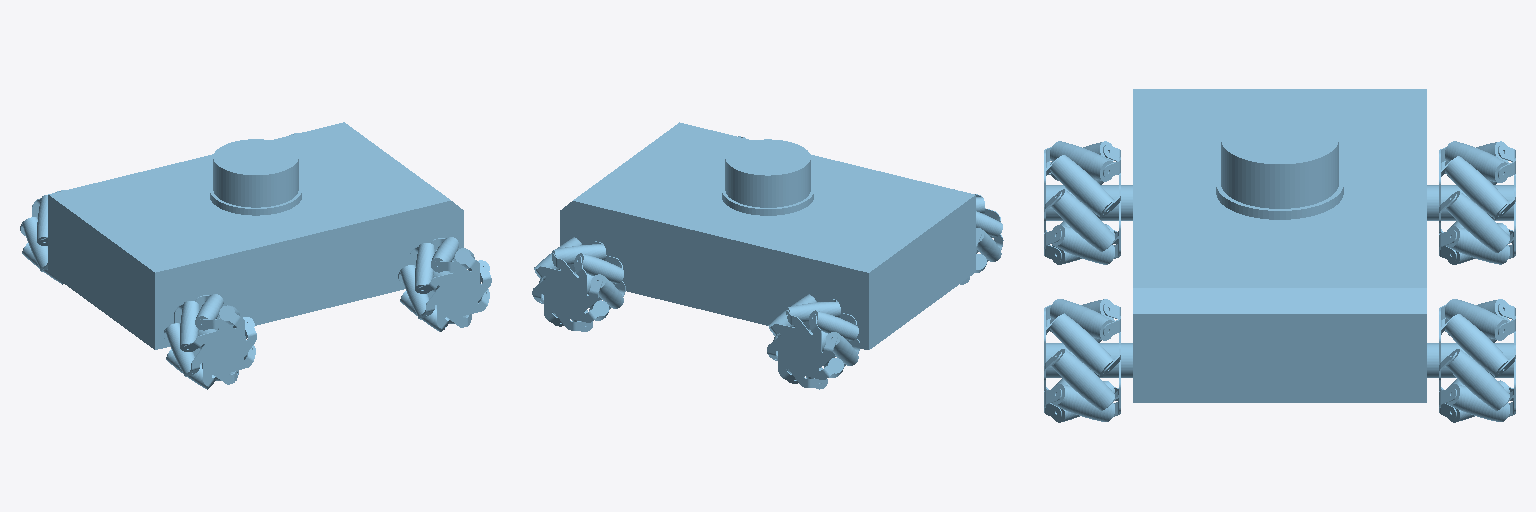
The robot description file, URDF, robot "omni":
<?xml version="1.0" ?>
<robot name="omni">
  <link name="base_footprint"/>

  <joint name="base_footprint_to_base_link" type="fixed">
    <parent link="base_footprint"/>
    <child link="base_link"/>
  </joint>

  <link name="base_link">
    <inertial>
      <origin xyz="-0.125396 2.39673e-17 0.0513697" rpy="0 0 0"/>
      <mass value="2.99867"/>
      <inertia ixx="0.00697143" ixy="0" ixz="3.19277e-05" iyy="0.0165647" iyz="0" izz="0.0216984"/>
    </inertial>
    <visual>
      <origin xyz="-0.125 2.77556e-17 0.02162" rpy="0 -0 0"/>
      <geometry>
        <mesh filename="package://omni/meshes/base_link.stl"/>
      </geometry>
      <material name="base_link_material">
        <color rgba="0.615686 0.811765 0.929412 1.0"/>
      </material>
    </visual>
    <collision>
      <origin xyz="-0.125 2.77556e-17 0.02162" rpy="0 -0 0"/>
      <geometry>
        <mesh filename="package://omni/meshes/base_link.stl"/>
      </geometry>
    </collision>
  </link>

  <link name="wheel1">
    <inertial>
      <origin xyz="-4.62646e-09 2.15356e-10 -0.0194206" rpy="0 0 0"/>
      <mass value="0.105412"/>
      <inertia ixx="3.8723e-05" ixy="2.1629e-12" ixz="2.584e-13" iyy="3.8723e-05" iyz="-7.71155e-14" izz="6.118e-05"/>
    </inertial>
    <visual>
      <origin xyz="-2.77556e-17 -1.38778e-17 -0.0388" rpy="8.65956e-17 -8.65956e-17 -3.14766e-19"/>
      <geometry>
        <mesh filename="package://omni/meshes/mecanum_wheel.stl"/>
      </geometry>
      <material name="wheel1_material">
        <color rgba="0.615686 0.811765 0.929412 1.0"/>
      </material>
    </visual>
    <collision>
      <origin xyz="-2.77556e-17 -1.38778e-17 -0.0388" rpy="8.65956e-17 -8.65956e-17 -3.14766e-19"/>
      <geometry>
        <mesh filename="package://omni/meshes/mecanum_wheel.stl"/>
      </geometry>
    </collision>
  </link>

  <joint name="joint1" type="continuous">
    <origin xyz="-0.22 -0.12 0.03162" rpy="1.5708 -0.0360662 -1.38117e-24"/>
    <parent link="base_link"/>
    <child link="wheel1"/>
    <axis xyz="0 0 1"/>
    <limit effort="10" velocity="10"/>
  </joint>

  <link name="wheel2">
    <inertial>
      <origin xyz="-4.62646e-09 2.15356e-10 -0.0194206" rpy="0 0 0"/>
      <mass value="0.105412"/>
      <inertia ixx="3.8723e-05" ixy="2.1629e-12" ixz="2.584e-13" iyy="3.8723e-05" iyz="-7.71155e-14" izz="6.118e-05"/>
    </inertial>
    <visual>
      <origin xyz="1.04083e-17 -6.93889e-18 -0.0388" rpy="8.65956e-17 -8.65956e-17 -6.1402e-50"/>
      <geometry>
        <mesh filename="package://omni/meshes/mecanum_wheel.stl"/>
      </geometry>
      <material name="wheel2_material">
        <color rgba="0.615686 0.811765 0.929412 1.0"/>
      </material>
    </visual>
    <collision>
      <origin xyz="1.04083e-17 -6.93889e-18 -0.0388" rpy="8.65956e-17 -8.65956e-17 -6.1402e-50"/>
      <geometry>
        <mesh filename="package://omni/meshes/mecanum_wheel.stl"/>
      </geometry>
    </collision>
  </link>

  <joint name="joint2" type="continuous">
    <origin xyz="-0.03 -0.12 0.03162" rpy="1.5708 -6.1402e-50 0"/>
    <parent link="base_link"/>
    <child link="wheel2"/>
    <axis xyz="0 0 1"/>
    <limit effort="10" velocity="10"/>
  </joint>

  <link name="wheel3">
    <inertial>
      <origin xyz="-4.62646e-09 2.15356e-10 -0.0194206" rpy="0 0 0"/>
      <mass value="0.105412"/>
      <inertia ixx="3.8723e-05" ixy="2.1629e-12" ixz="2.584e-13" iyy="3.8723e-05" iyz="-7.71155e-14" izz="6.118e-05"/>
    </inertial>
    <visual>
      <origin xyz="0 -6.93889e-18 -0.0388" rpy="8.65956e-17 -8.65956e-17 -6.1402e-50"/>
      <geometry>
        <mesh filename="package://omni/meshes/mecanum_wheel.stl"/>
      </geometry>
      <material name="wheel3_material">
        <color rgba="0.615686 0.811765 0.929412 1.0"/>
      </material>
    </visual>
    <collision>
      <origin xyz="0 -6.93889e-18 -0.0388" rpy="8.65956e-17 -8.65956e-17 -6.1402e-50"/>
      <geometry>
        <mesh filename="package://omni/meshes/mecanum_wheel.stl"/>
      </geometry>
    </collision>
  </link>

  <joint name="joint3" type="continuous">
    <origin xyz="-0.22 0.12 0.03162" rpy="-1.5708 6.1402e-50 0"/>
    <parent link="base_link"/>
    <child link="wheel3"/>
    <axis xyz="0 0 1"/>
    <limit effort="10" velocity="10"/>
  </joint>

  <link name="wheel4">
    <inertial>
      <origin xyz="-4.62646e-09 2.15356e-10 -0.0194206" rpy="0 0 0"/>
      <mass value="0.105412"/>
      <inertia ixx="3.8723e-05" ixy="2.1629e-12" ixz="2.584e-13" iyy="3.8723e-05" iyz="-7.71155e-14" izz="6.118e-05"/>
    </inertial>
    <visual>
      <origin xyz="6.93889e-18 -3.46945e-18 -0.0388" rpy="8.65956e-17 -8.65956e-17 -6.1402e-50"/>
      <geometry>
        <mesh filename="package://omni/meshes/mecanum_wheel.stl"/>
      </geometry>
      <material name="wheel4_material">
        <color rgba="0.615686 0.811765 0.929412 1.0"/>
      </material>
    </visual>
    <collision>
      <origin xyz="6.93889e-18 -3.46945e-18 -0.0388" rpy="8.65956e-17 -8.65956e-17 -6.1402e-50"/>
      <geometry>
        <mesh filename="package://omni/meshes/mecanum_wheel.stl"/>
      </geometry>
    </collision>
  </link>

  <joint name="joint4" type="continuous">
    <origin xyz="-0.03 0.12 0.03162" rpy="-1.5708 1.5708 0"/>
    <parent link="base_link"/>
    <child link="wheel4"/>
    <axis xyz="0 0 1"/>
    <limit effort="10" velocity="10"/>
  </joint>

  <link name="lidar_link">
    <inertial>
      <origin xyz="6.13581e-19 1.92593e-33 -0.0125" rpy="0 0 0"/>
      <mass value="0.0743615"/>
      <inertia ixx="2.06043e-05" ixy="0" ixz="0" iyy="2.06043e-05" iyz="0" izz="3.34627e-05"/>
    </inertial>
    <visual>
      <origin xyz="0 1.83697e-18 0" rpy="3.14159 -0 0"/>
      <geometry>
        <mesh filename="package://omni/meshes/lidar.stl"/>
      </geometry>
      <material name="lidar_material">
        <color rgba="0.615686 0.811765 0.929412 1.0"/>
      </material>
    </visual>
    <collision>
      <origin xyz="0 1.83697e-18 0" rpy="3.14159 -0 0"/>
      <geometry>
        <mesh filename="package://omni/meshes/lidar.stl"/>
      </geometry>
    </collision>
  </link>

  <joint name="lidar_joint" type="fixed">
    <origin xyz="-0.125 2.97456e-17 0.08662" rpy="3.14159 -0 0"/>
    <parent link="base_link"/>
    <child link="lidar_link"/>
    <axis xyz="0 0 1"/>
    <limit effort="10" velocity="10"/>
  </joint>

  <gazebo reference="lidar_link">
    <material>Gazebo/Gray</material>
    <sensor type="ray" name="ray_sensor">
      <pose>0 0 0 0 0 0</pose>
      <visualize>true</visualize>
      <update_rate>30.0</update_rate>
      <ray>
         <scan>
            <horizontal>
              <samples>600</samples>
              <resolution>1</resolution>
              <min_angle>0.0</min_angle>
              <max_angle>6.28319</max_angle>
            </horizontal>
         </scan>
         <range>
            <min>0.120</min>
            <max>10</max>
            <resolution>0.015</resolution>
         </range>
      </ray>
      <plugin name="ros_ray_sensor_controller" filename="libgazebo_ros_laser.so">
          <topicName>scan</topicName>
          <frameName>lidar_link</frameName>
          <gaussianNoise>0.01</gaussianNoise> 
      </plugin>
    </sensor>
  </gazebo>

  <gazebo>
    <plugin name="omni_steering" filename="libgazebo_ros_planar_move.so">
      <commandTopic>cmd_vel</commandTopic>
      <odometryTopic>odom</odometryTopic>
      <odometryFrame>odom</odometryFrame>
      <odometryRate>20.0</odometryRate>
      <robotBaseFrame>base_footprint</robotBaseFrame>
    </plugin>
  </gazebo>
</robot>

--- Render facts (derived) ---
The picture shows the robot from 3 angles, left to right: view 1: azimuth 30°, elevation 25°; view 2: azimuth 150°, elevation 25°; view 3: azimuth 270°, elevation 25°; orthographic projection.
Robot: omni — 7 links, 6 joints (4 continuous, 2 fixed); root link base_footprint; default pose: all joints at 0.
Links seen in each view (by area): view 1: base_link, wheel2, wheel1, lidar_link, wheel3; view 2: base_link, wheel3, wheel4, lidar_link, wheel1; view 3: base_link, lidar_link, wheel3, wheel4, wheel2, wheel1.
Boxes of the visible links, x1=… form: base_link: x1=48, y1=122, x2=469, y2=363; wheel2: x1=398, y1=237, x2=491, y2=331; wheel1: x1=164, y1=294, x2=256, y2=389; lidar_link: x1=213, y1=139, x2=298, y2=207; wheel3: x1=20, y1=190, x2=64, y2=284; base_link: x1=554, y1=122, x2=975, y2=363; wheel3: x1=767, y1=294, x2=859, y2=389; wheel4: x1=532, y1=237, x2=625, y2=331; lidar_link: x1=725, y1=139, x2=810, y2=207; wheel1: x1=954, y1=189, x2=1003, y2=284; base_link: x1=1046, y1=89, x2=1513, y2=402; lidar_link: x1=1221, y1=115, x2=1338, y2=208; wheel3: x1=1439, y1=141, x2=1515, y2=264; wheel4: x1=1439, y1=299, x2=1515, y2=422; wheel2: x1=1044, y1=299, x2=1120, y2=422; wheel1: x1=1044, y1=141, x2=1120, y2=264.
Bounding box of the posed robot: 0.2507 × 0.24 × 0.1105 m (x, y, z).
6 mesh visuals loaded from 3 distinct referenced files (3 binary STL).
